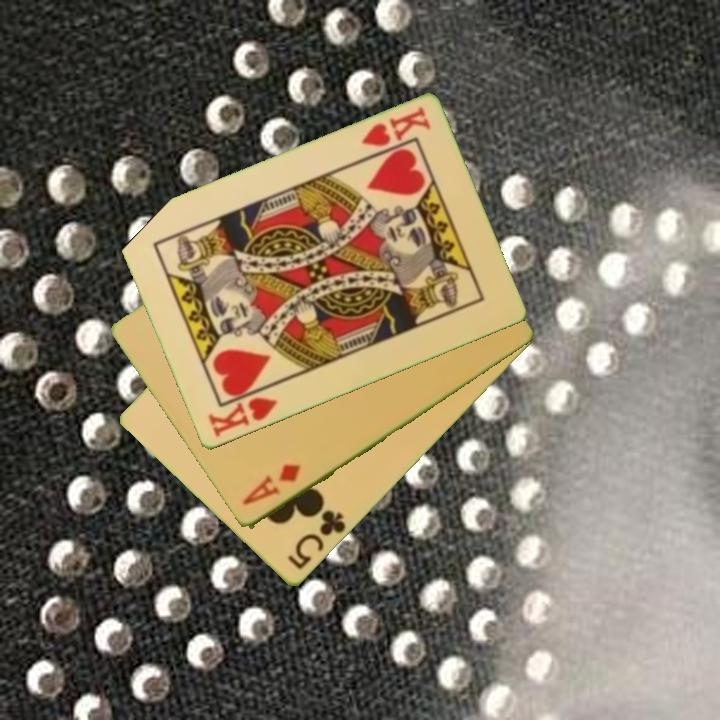5c: (283, 506, 349, 573)
Ad: (238, 460, 304, 509)
Kh: (204, 382, 280, 441), (357, 103, 434, 150)
